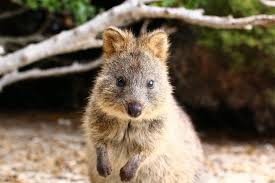quokka: (75, 25, 216, 183)
